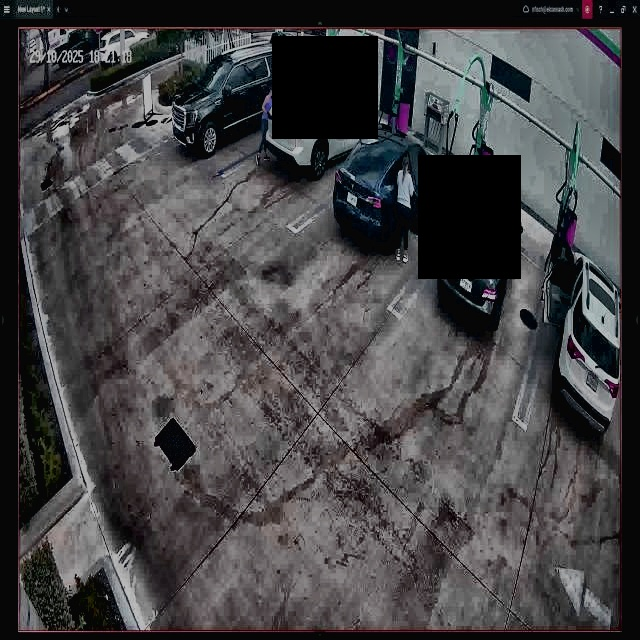Car: (334, 124, 440, 252), (267, 77, 376, 172), (441, 279, 521, 329)
